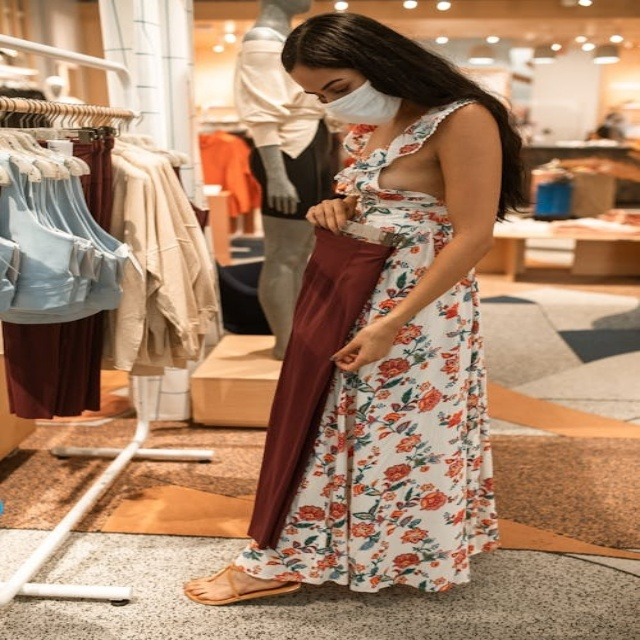Mascara: (319, 78, 404, 122)
Sin_gafas: (302, 77, 355, 104)
Sin_guantes: (325, 317, 401, 374), (296, 191, 355, 238)
